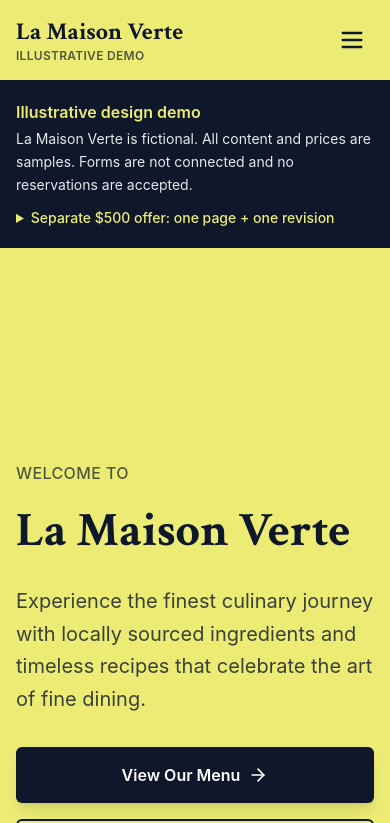
Scenario: mobile menu closes, reopens and closes on navigation
The image size is (390, 823).
Click the button named "Toggle menu" at (352, 40), box x1=330 y1=18 x2=374 y2=62
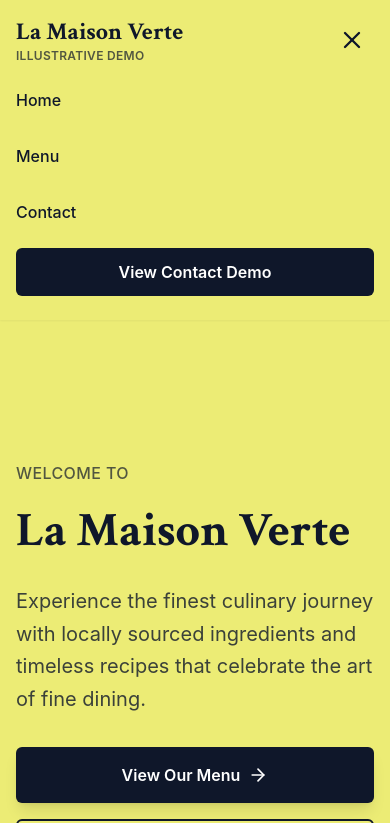
Now the button named "Toggle menu" is expanded
Click the button named "Toggle menu" at (352, 40), box x1=330 y1=18 x2=374 y2=62
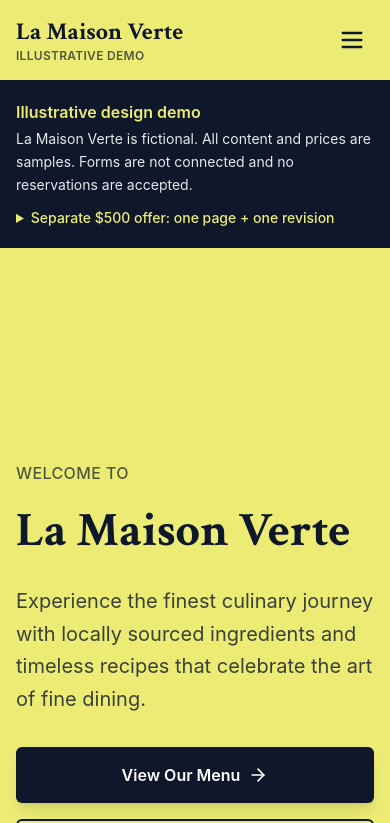
Now the element with id "mobile-navigation" is gone
Click the button named "Toggle menu" at (352, 40), box x1=330 y1=18 x2=374 y2=62
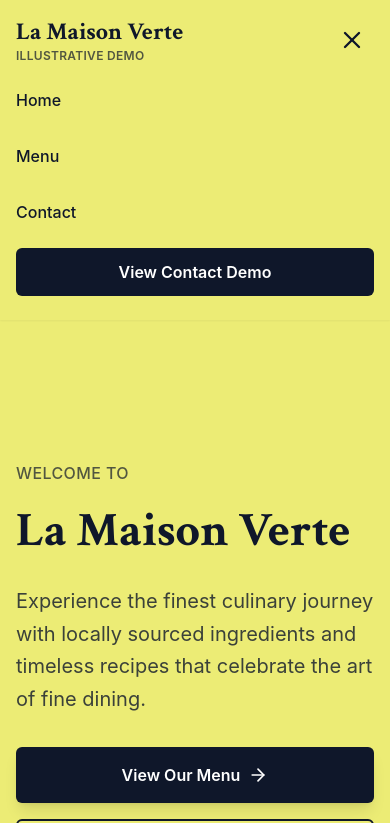
Click the link to "/contact" at (46, 212), box x1=16 y1=202 x2=76 y2=222
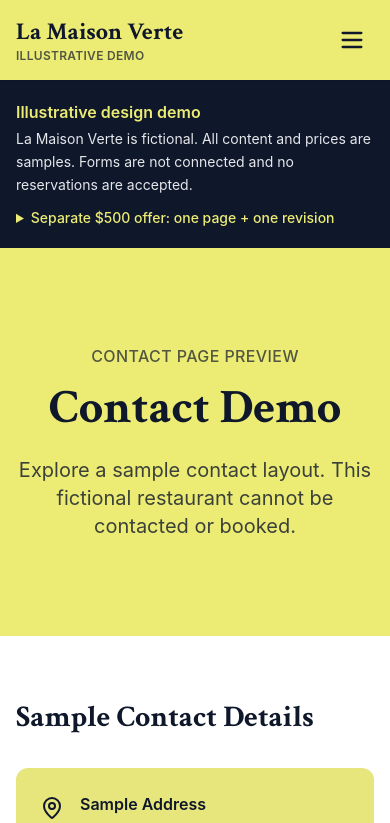
Now the element with id "mobile-navigation" is gone
Now the heading "Contact Demo" is shown, box x1=49 y1=376 x2=341 y2=439
